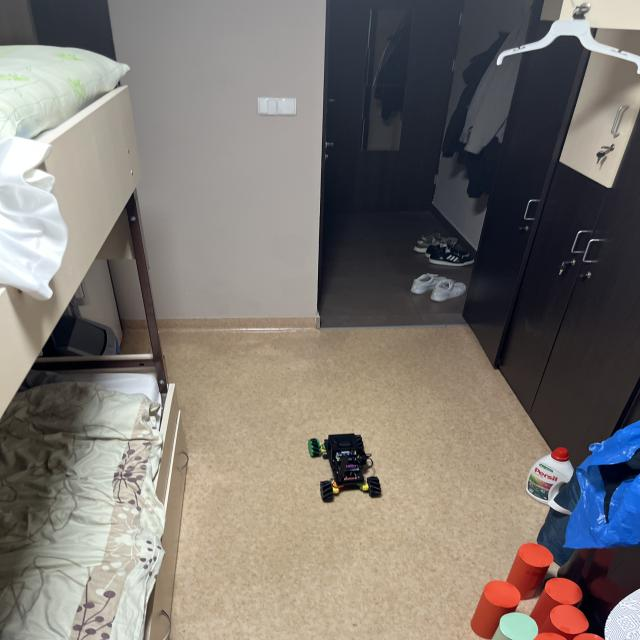robot: (308, 433, 381, 502)
